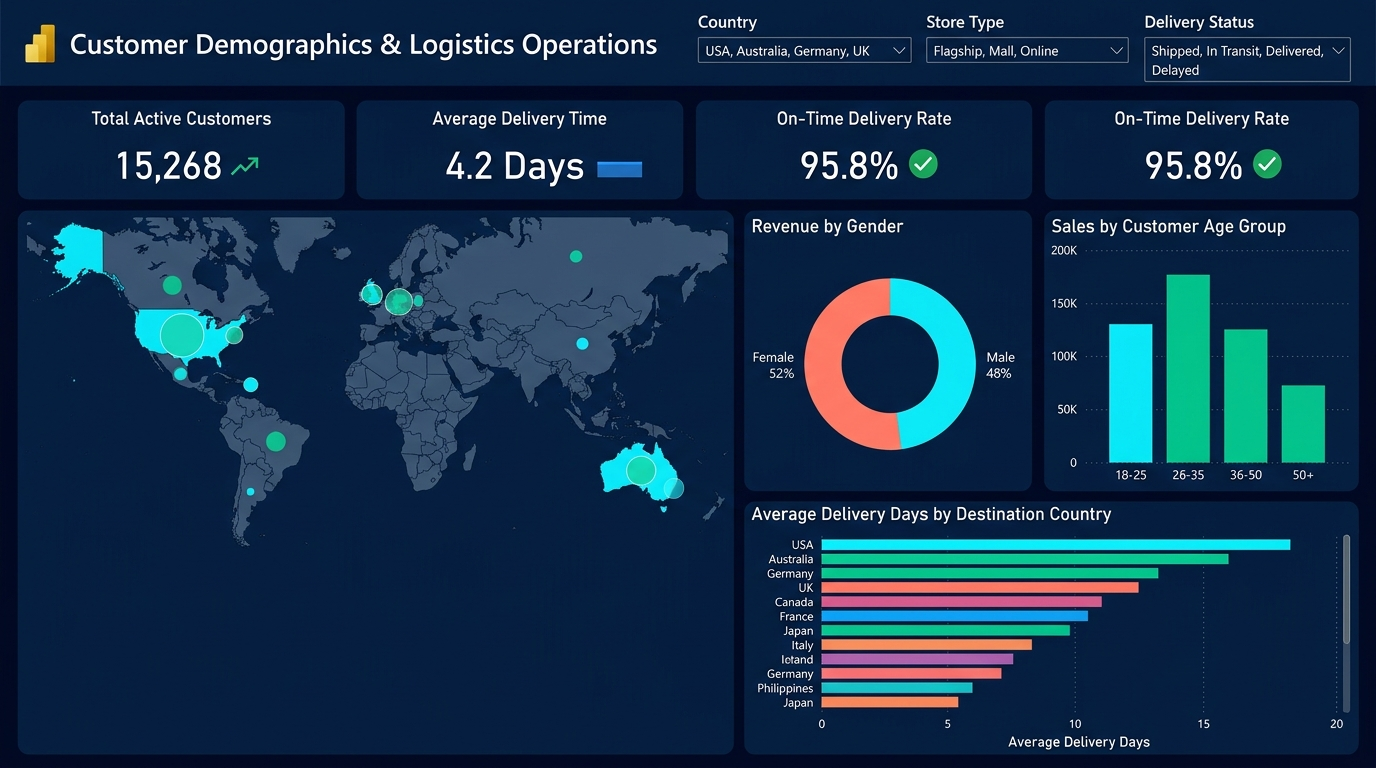

The dashboard page shown, as its layout file describes it:
{"tool":"powerbi","page":{"name":"Customer & Logistics","canvas":[1920,1080],"ordinal":2},"visuals":[{"type":"shape","box":[0,0,1920.4,109.1],"z":0},{"type":"slicer","title":"Region","fields":{"Values":["dim_customer.country"]},"box":[1599.7,14.1,286.4,74.6],"z":1000},{"type":"slicer","title":"Category","fields":{"Values":["agg_daily_store_sales.store_size_category"]},"box":[1010.6,16.1,286.4,82.7],"z":2000},{"type":"slicer","title":"Product Brand","fields":{"Values":["fact_sales.order_status"]},"box":[1303.1,14.1,286.4,78.7],"z":3000},{"type":"cardVisual","fields":{"Data":["fact_sales.Total Customers"]},"box":[27.3,134.8,448.8,157.4],"z":4000},{"type":"cardVisual","fields":{"Data":["fact_sales.Avg Delivery Days"]},"box":[508.7,134.8,430.7,157.4],"z":5000},{"type":"cardVisual","fields":{"Data":["fact_sales.On-Time Delivery Rate"]},"box":[972,134.8,430.7,157.4],"z":6000},{"type":"cardVisual","fields":{"Data":["fact_sales.Pending Orders"]},"box":[1435.3,134.8,452.4,157.4],"z":7000},{"type":"map","fields":{"Category":["dim_customer.country"],"Size":["fact_sales.Total Sales USD"]},"box":[26.2,316.7,913.8,746.4],"z":7001},{"type":"donutChart","title":"Revenue by Gender","fields":{"Category":["dim_customer.gender"],"Y":["fact_sales.Total Sales USD"]},"box":[972.3,316.7,431.7,399.4],"z":7002},{"type":"clusteredColumnChart","title":"Sales by Customer Age Group","fields":{"Category":["dim_customer.age_group"],"Y":["fact_sales.Total Sales USD"]},"box":[1434.3,316.7,432,399],"z":7003},{"type":"clusteredBarChart","title":"Avg Delivery Days by Destination Country","fields":{"Category":["dim_customer.country"],"Y":["Sum(fact_sales.delivery_days)"]},"box":[972.3,734.3,893.6,328.8],"z":7004}]}

Visuals, with their boxes in screenshot pixels (x1, y1, x2, y2), scaled from the page's 1920x1080 canvas onto the 1376x768 screenshot:
shape: box(0, 0, 1375, 78)
"Region" slicer: box(1146, 10, 1352, 63)
"Category" slicer: box(724, 11, 930, 70)
"Product Brand" slicer: box(934, 10, 1139, 66)
cardVisual - fact_sales.Total Customers: box(20, 96, 341, 208)
cardVisual - fact_sales.Avg Delivery Days: box(365, 96, 673, 208)
cardVisual - fact_sales.On-Time Delivery Rate: box(697, 96, 1005, 208)
cardVisual - fact_sales.Pending Orders: box(1029, 96, 1353, 208)
map - dim_customer.country x fact_sales.Total Sales USD: box(19, 225, 674, 756)
"Revenue by Gender" donutChart: box(697, 225, 1006, 509)
"Sales by Customer Age Group" clusteredColumnChart: box(1028, 225, 1338, 509)
"Avg Delivery Days by Destination Country" clusteredBarChart: box(697, 522, 1337, 756)
